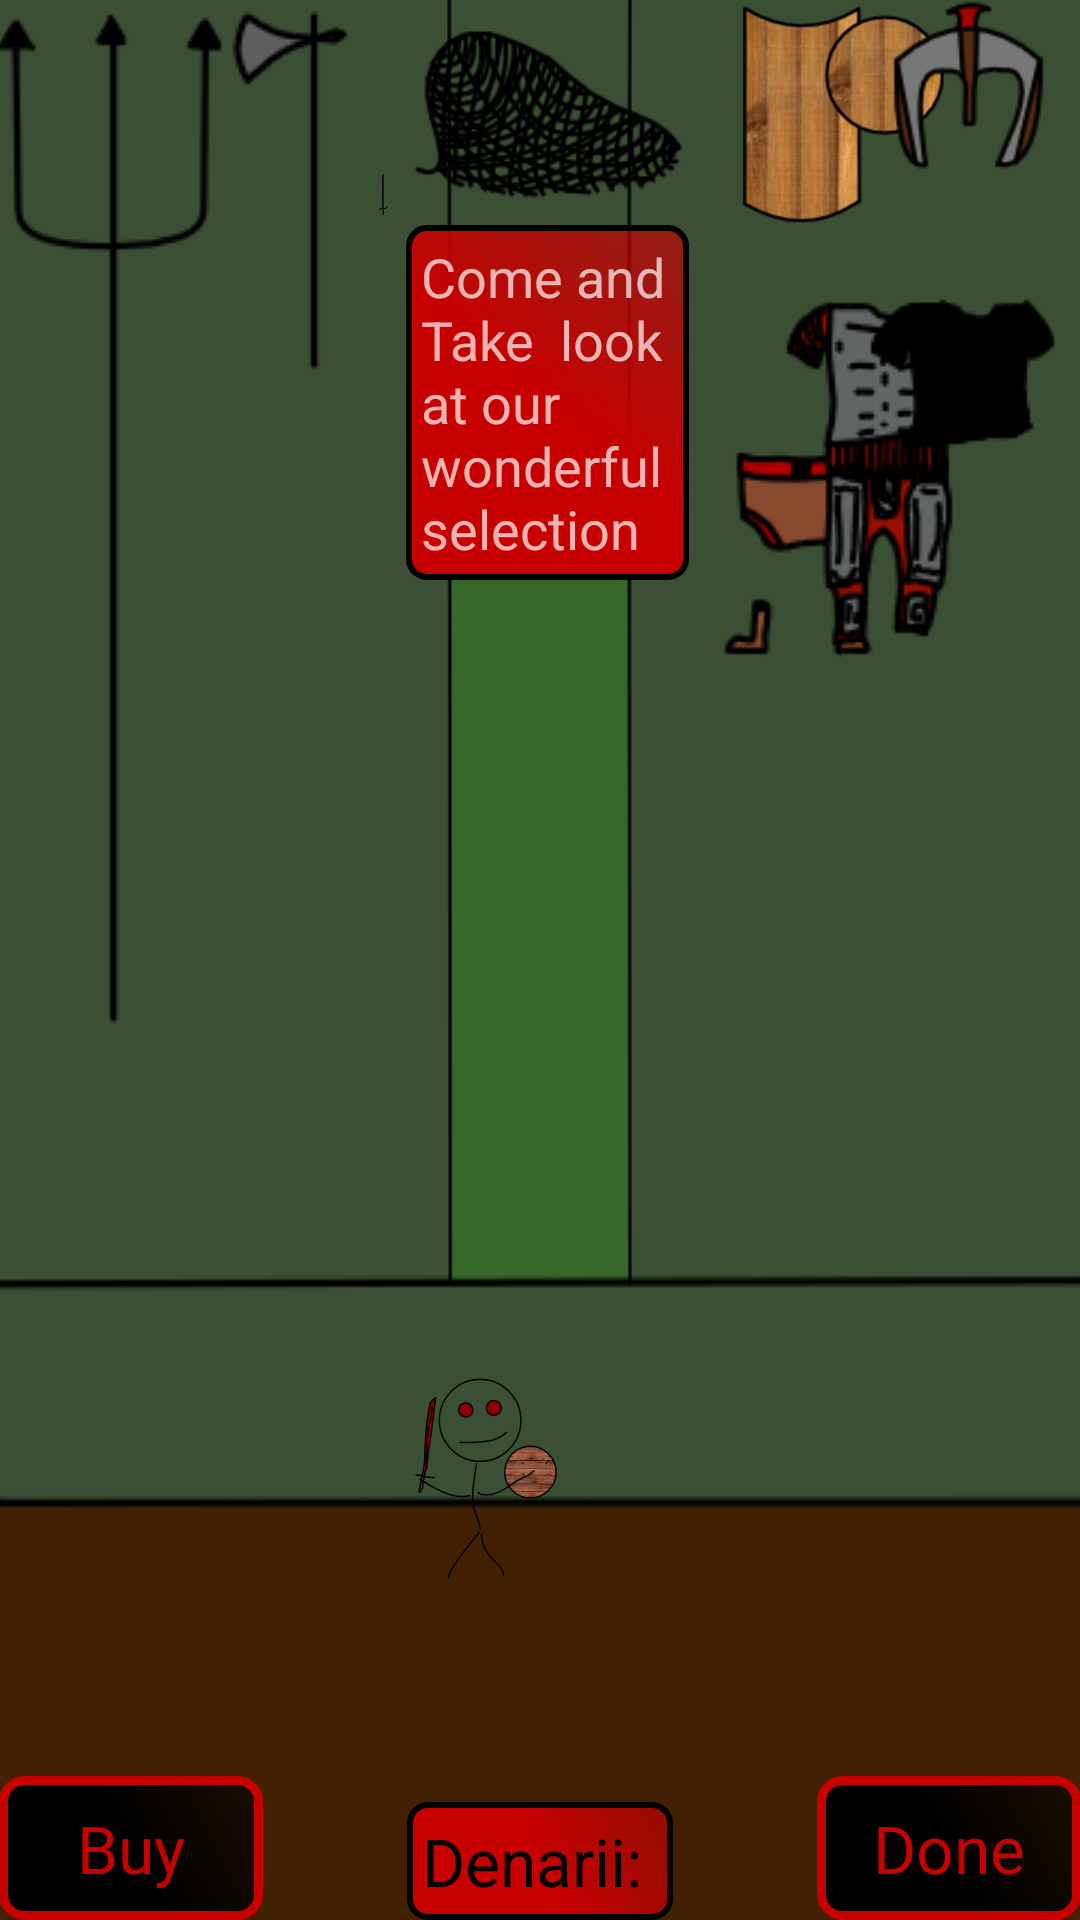

Icon click points for this 1080x1920 phone screenshot, format (x,y):
axe: (290,190)
helm: (968,112)
stick glad: (488,1481)
